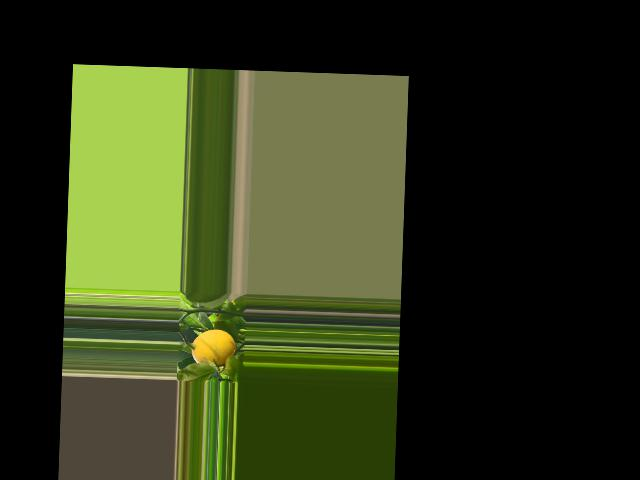lemon: (188, 327, 237, 367)
